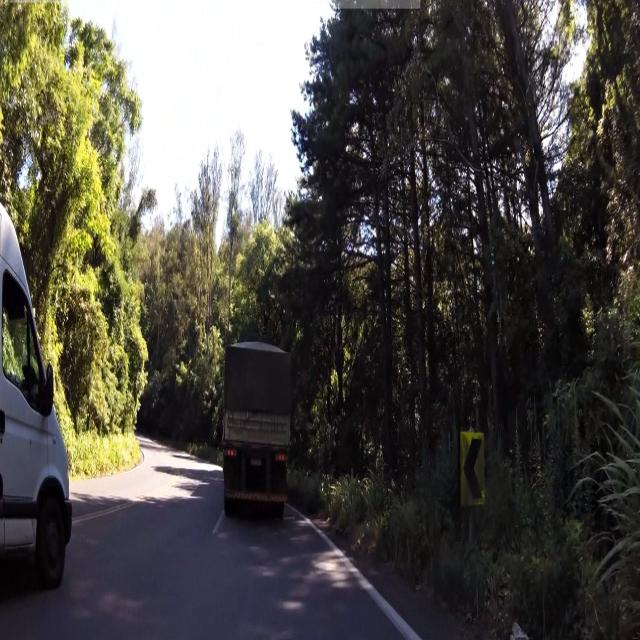E-5: (459, 431, 486, 510)
